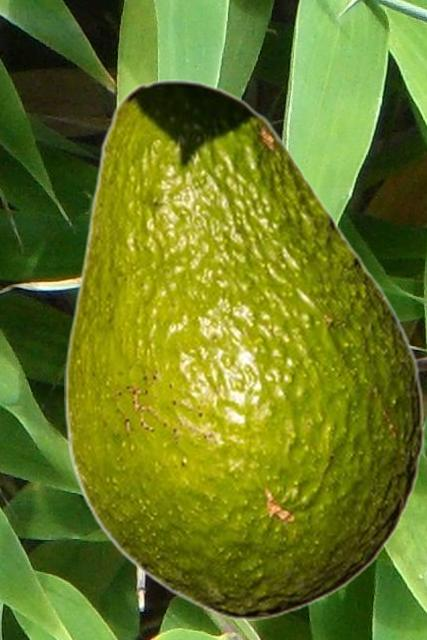avocado: (64, 79, 424, 619)
